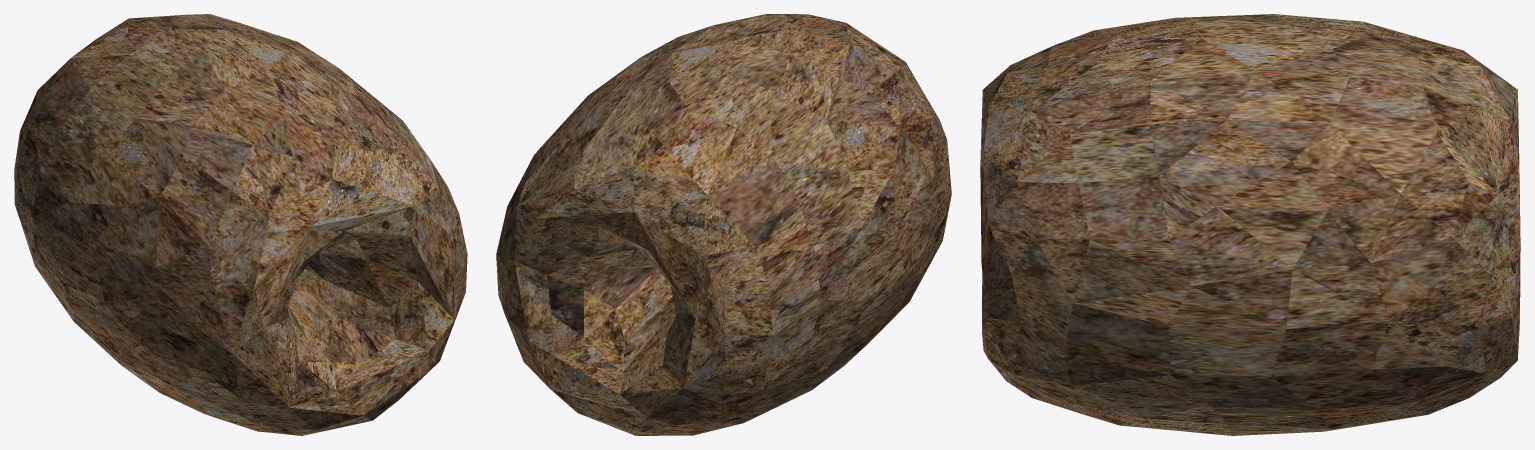
The model's file is hole.obj.
3 renders of one model, left to right at view 1: azimuth 30°, elevation 25°; view 2: azimuth 150°, elevation 25°; view 3: azimuth 270°, elevation 25°, orthographic. The views are drawn at different scales.
Parts seen in each view (by area): view 1: hole; view 2: hole; view 3: hole.
Boxes of the visible parts, box(x1,y1,x2,y2) form: hole: box(14, 14, 467, 435); hole: box(496, 14, 951, 435); hole: box(980, 14, 1520, 435).
Size of the model in its own units: 12.36 by 12.36 by 15.9.
1 material, 1 textured.
